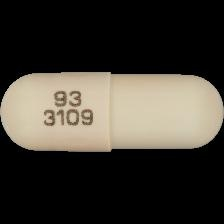55154-8278: (0, 0, 224, 224)
